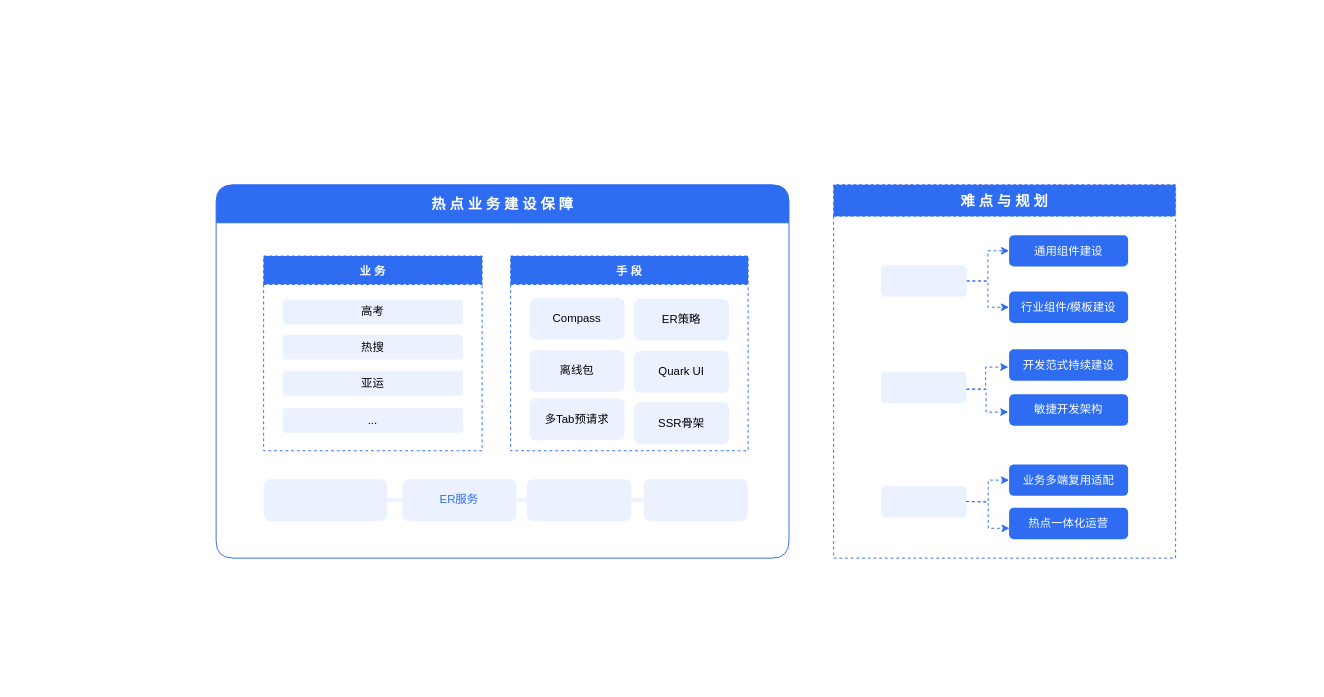
Some shapes in this 1324 by 697 pixel diagram are drawn without their labels. The shapes that lost their labels are listed below. From the top down, each one's centre as x and y in pixels, then its label:
(923,280): 快速落地
(923,387): 质量把控
(325,500): 白龙马
(578,500): 班车灰度
(695,500): 云石监控
(923,501): 多场景
